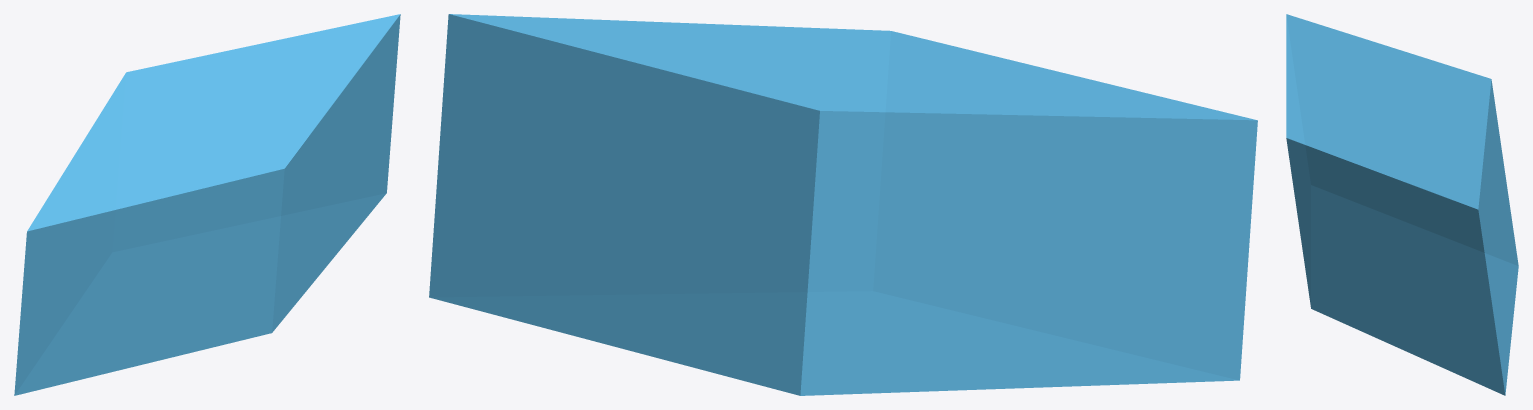
File: Event_421556567_HBrechit_25.fbx
3 renders of one model, left to right at view 1: azimuth 30°, elevation 25°; view 2: azimuth 150°, elevation 25°; view 3: azimuth 270°, elevation 25°, orthographic. The views are drawn at different scales.
Parts seen in each view (by area): view 1: Model; view 2: Model; view 3: Model.
Boxes of the visible parts, x1,y1,x2,y2 form: Model: (14,14,400,395); Model: (429,14,1257,395); Model: (1286,14,1518,395).
Size of the model in its own units: 1.13 by 0.4746 by 0.4907.
